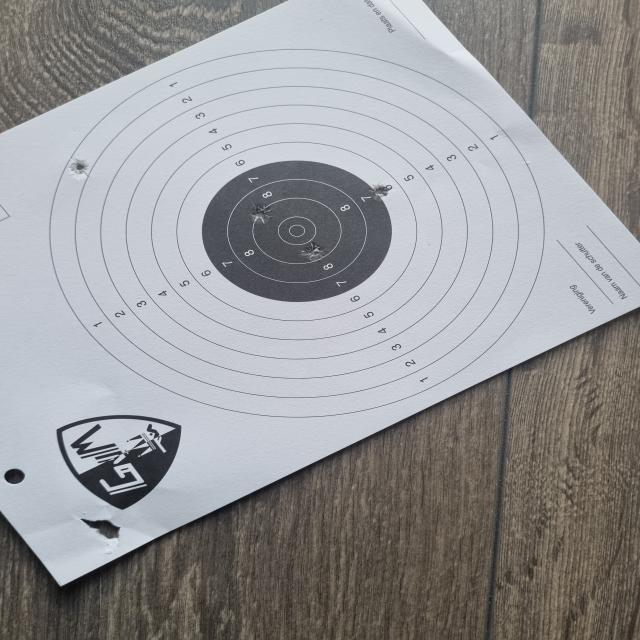1: (64, 158, 94, 178)
7: (369, 184, 389, 199)
9: (248, 203, 273, 224), (298, 242, 325, 260)
Target: (49, 48, 544, 419)
black_contour: (198, 160, 392, 302)
